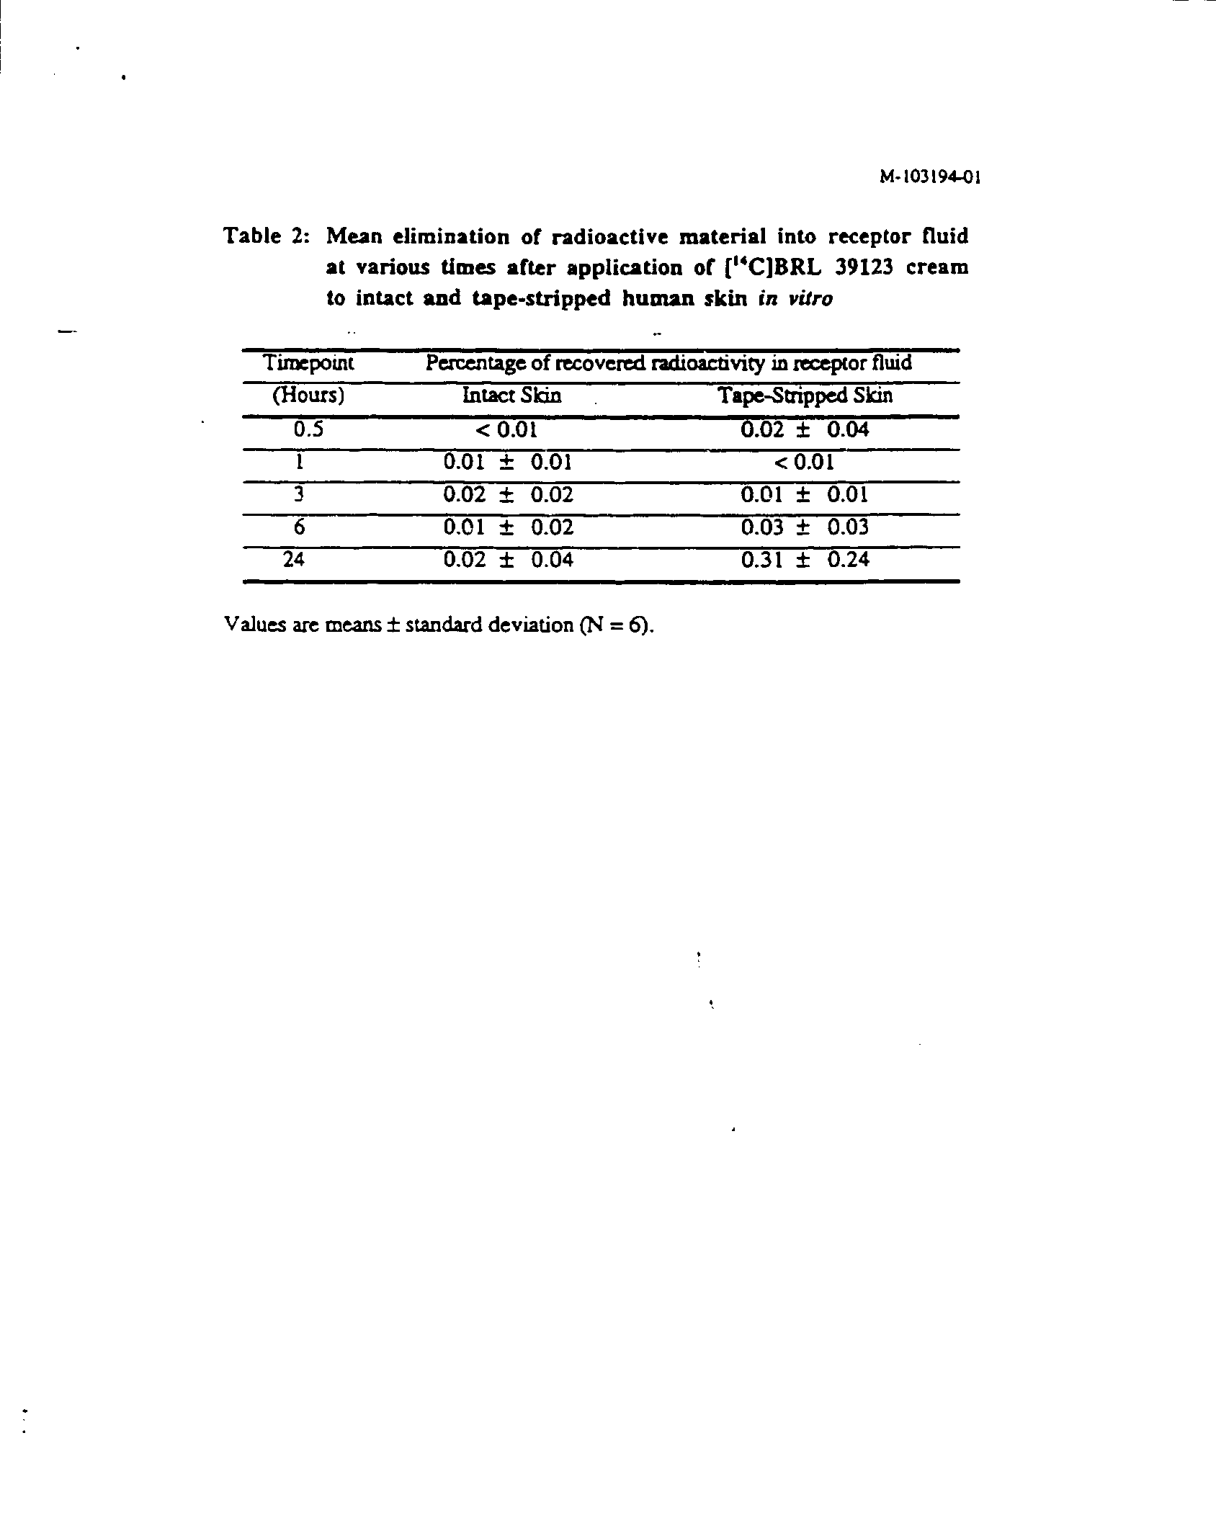partial_lined_merged_cells: (239, 347, 962, 587)
